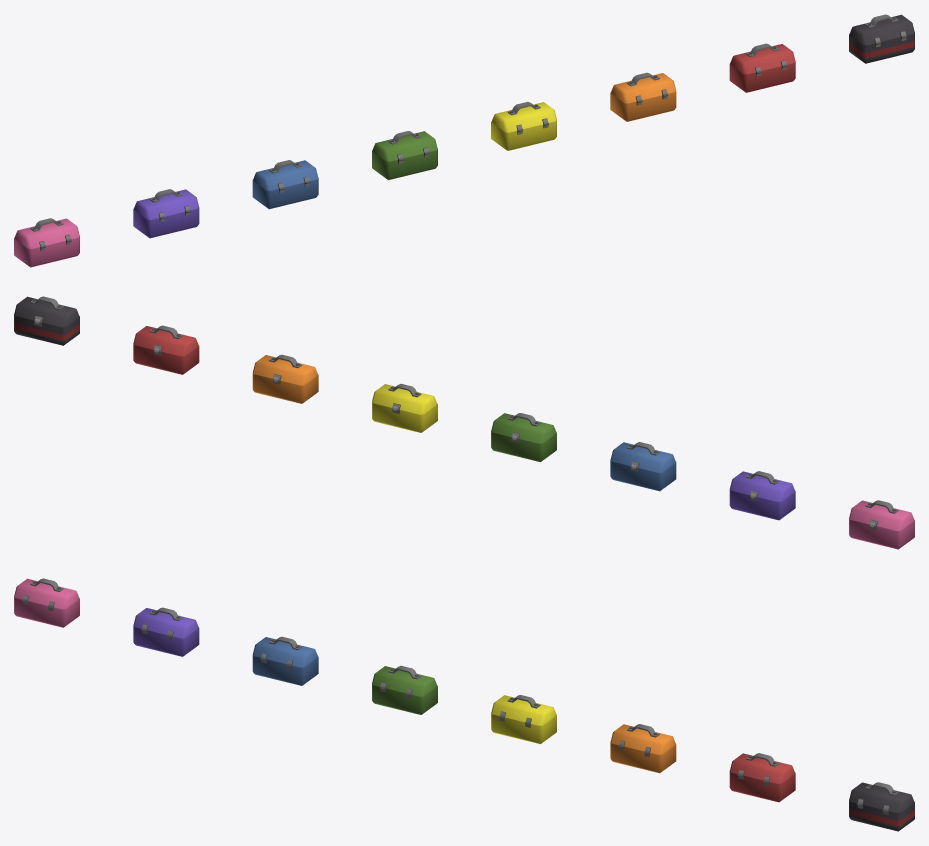
Rendered from toolboxes.fbx.
3 views of the same model, one above another, from view 1: azimuth 30°, elevation 25°; view 2: azimuth 150°, elevation 25°; view 3: azimuth 330°, elevation 25° (orthographic).
Visible parts, largest first — view 1: ToolboxLidPink, ToolboxLidPurple, ToolboxLidRed, ToolboxLidYellow, ToolboxLidSyndicate, ToolboxLidBlue, ToolboxLidGreen, ToolboxLidOrange, ToolboxOrange, ToolboxBlue, ToolboxPurple, ToolboxRed (+4 smaller); view 2: ToolboxLidPurple, ToolboxLidRed, ToolboxLidPink, ToolboxLidSyndicate, ToolboxLidYellow, ToolboxLidGreen, ToolboxLidOrange, ToolboxLidBlue, ToolboxOrange, ToolboxBlue, ToolboxPurple, ToolboxRed (+4 smaller); view 3: ToolboxLidPurple, ToolboxLidRed, ToolboxLidSyndicate, ToolboxLidGreen, ToolboxLidOrange, ToolboxLidPink, ToolboxLidYellow, ToolboxLidBlue, ToolboxBlue, ToolboxOrange, ToolboxRed, ToolboxPurple (+4 smaller).
Boxes of the visible parts, x1,y1,x2,y2 form: ToolboxLidPink: [14, 218, 79, 248]; ToolboxLidPurple: [133, 189, 198, 219]; ToolboxLidRed: [730, 43, 795, 74]; ToolboxLidYellow: [491, 101, 556, 132]; ToolboxLidSyndicate: [849, 14, 914, 45]; ToolboxLidBlue: [253, 160, 318, 190]; ToolboxLidGreen: [372, 131, 437, 161]; ToolboxLidOrange: [611, 72, 675, 103]; ToolboxOrange: [610, 90, 676, 121]; ToolboxBlue: [252, 178, 318, 209]; ToolboxPurple: [133, 207, 199, 238]; ToolboxRed: [729, 61, 795, 92]; ToolboxLidPurple: [730, 471, 795, 501]; ToolboxLidRed: [133, 325, 198, 356]; ToolboxLidPink: [849, 500, 914, 530]; ToolboxLidSyndicate: [14, 296, 79, 327]; ToolboxLidYellow: [372, 383, 437, 414]; ToolboxLidGreen: [491, 413, 556, 443]; ToolboxLidOrange: [253, 354, 317, 385]; ToolboxLidBlue: [610, 442, 675, 472]; ToolboxOrange: [252, 372, 318, 403]; ToolboxBlue: [610, 460, 676, 491]; ToolboxPurple: [729, 489, 795, 520]; ToolboxRed: [133, 343, 199, 374]; ToolboxLidPurple: [133, 607, 198, 638]; ToolboxLidRed: [730, 753, 795, 783]; ToolboxLidSyndicate: [849, 782, 914, 812]; ToolboxLidGreen: [372, 665, 437, 696]; ToolboxLidOrange: [610, 724, 675, 754]; ToolboxLidPink: [14, 578, 79, 609]; ToolboxLidYellow: [491, 695, 556, 725]; ToolboxLidBlue: [253, 636, 317, 667]; ToolboxBlue: [252, 654, 318, 685]; ToolboxOrange: [610, 742, 676, 773]; ToolboxRed: [729, 771, 795, 802]; ToolboxPurple: [133, 625, 199, 656].
Bounding box in the file's own units: 7.44 × 0.2868 × 0.2864.
